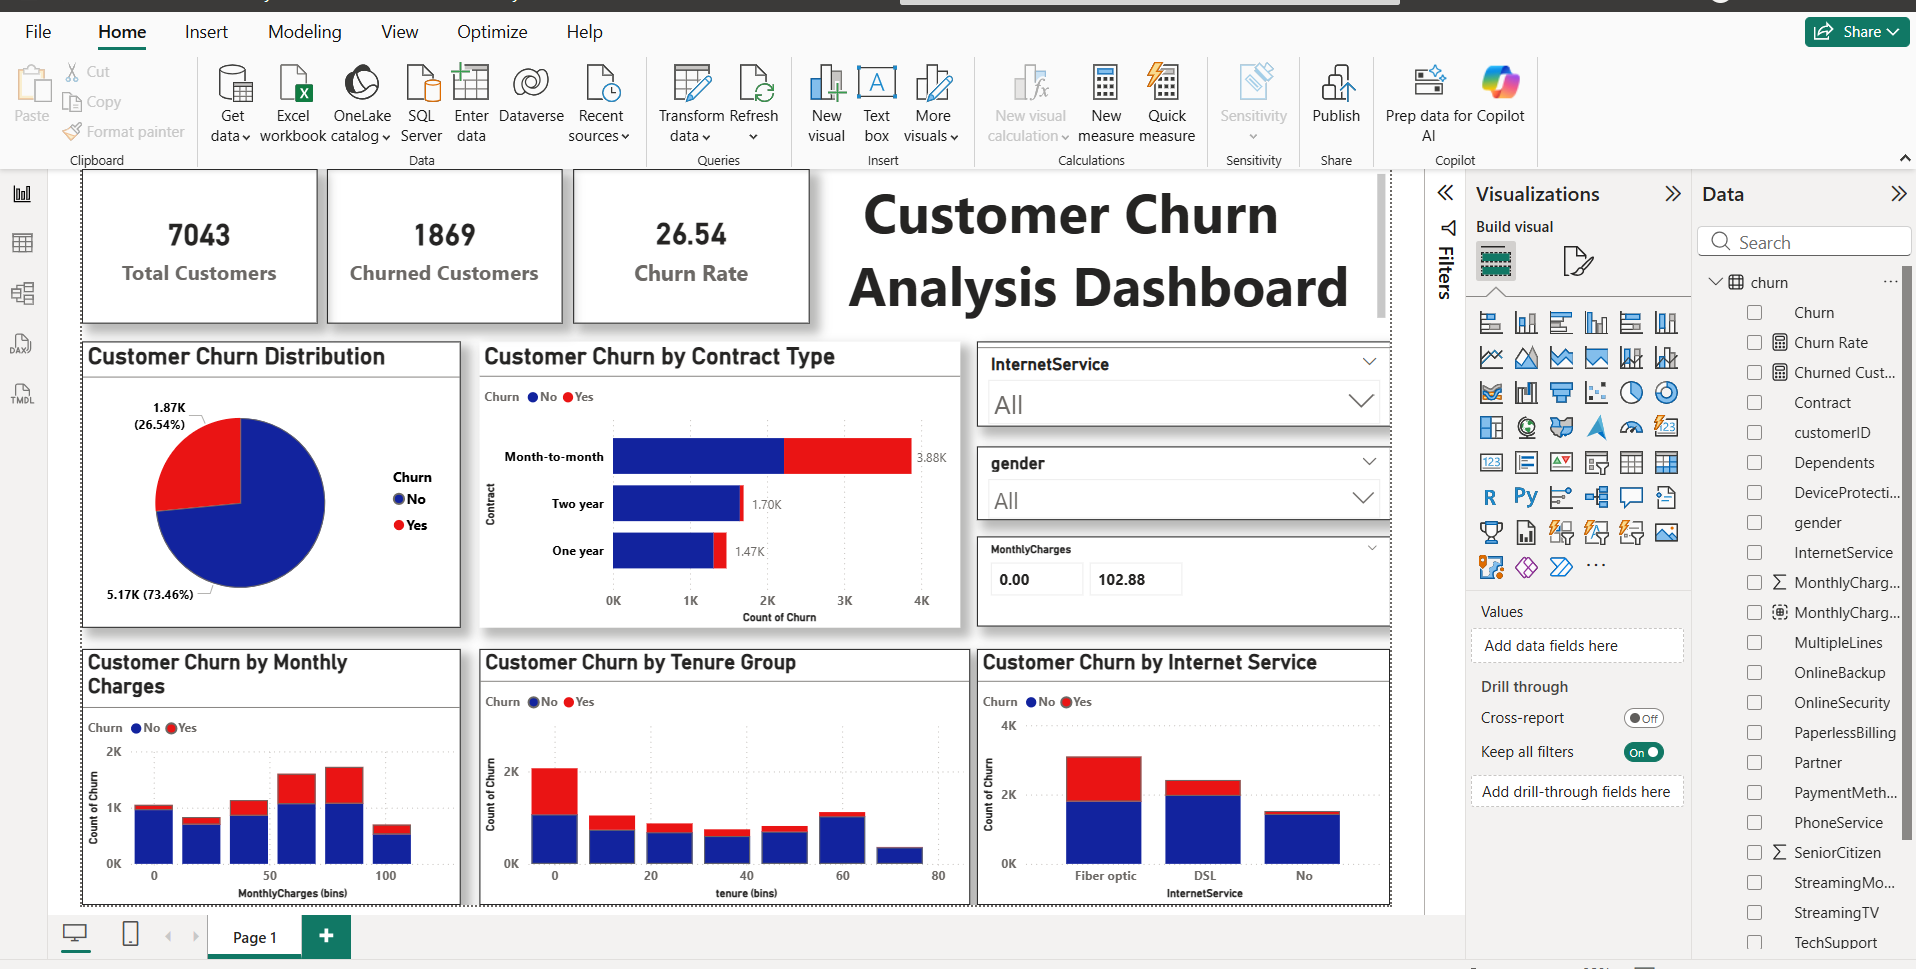

What the dashboard file says about the page in this screenshot:
{"tool":"powerbi","page":{"name":"Page 1","canvas":[1280,720],"ordinal":0},"visuals":[{"type":"card","fields":{"Values":["churn.Churn Rate"]},"box":[480,0,231.4,151.4],"z":0},{"type":"pieChart","title":"Customer Churn Distribution","fields":{"Y":["CountNonNull(churn.Churn)"],"Category":["churn.Churn"]},"box":[0,168.8,370.5,279.9],"z":1000},{"type":"barChart","title":"Customer Churn by Contract Type","fields":{"Category":["churn.Contract"],"Y":["CountNonNull(churn.Churn)"],"Series":["churn.Churn"]},"box":[388.6,168.6,470,280],"z":2000},{"type":"columnChart","title":"Customer Churn by Tenure Group","fields":{"Y":["CountNonNull(churn.Churn)"],"Series":["churn.Churn"],"Category":["churn.tenure (bins)"]},"box":[388.6,470,480,250],"z":3000},{"type":"columnChart","title":"Customer Churn by Monthly Charges","fields":{"Y":["CountNonNull(churn.Churn)"],"Series":["churn.Churn"],"Category":["churn.MonthlyCharges (bins)"]},"box":[0,470,370,250],"z":4000},{"type":"columnChart","title":"Customer Churn by Internet Service","fields":{"Y":["CountNonNull(churn.Churn)"],"Series":["churn.Churn"],"Category":["churn.InternetService"]},"box":[875.7,470,404.3,250],"z":5000},{"type":"card","fields":{"Values":["churn.Total Churn"]},"box":[240,0,230,151.4],"z":6000},{"type":"card","fields":{"Values":["churn.Total Customers"]},"box":[0,0,230,151.4],"z":7000},{"type":"slicer","fields":{"Values":["churn.InternetService"]},"box":[875,168.3,405,83.3],"z":8000},{"type":"slicer","fields":{"Values":["churn.gender"]},"box":[875,271.7,405,71.7],"z":9000},{"type":"slicer","fields":{"Values":["churn.MonthlyCharges (bins)"]},"box":[875,360,405,88.3],"z":10000},{"type":"textbox","box":[745,0,535,151.7],"z":11000}]}

Visuals, with their boxes on the page's 1280x720 design canvas (x1, y1, x2, y2). These are canvas units, not pixel positions in the 1916x969 screenshot, which may show the page scaled, cropped or inside an application window:
card - churn.Churn Rate: crop(480, 0, 711, 151)
"Customer Churn Distribution" pieChart: crop(0, 169, 370, 449)
"Customer Churn by Contract Type" barChart: crop(389, 169, 859, 449)
"Customer Churn by Tenure Group" columnChart: crop(389, 470, 869, 720)
"Customer Churn by Monthly Charges" columnChart: crop(0, 470, 370, 720)
"Customer Churn by Internet Service" columnChart: crop(876, 470, 1280, 720)
card - churn.Total Churn: crop(240, 0, 470, 151)
card - churn.Total Customers: crop(0, 0, 230, 151)
slicer - churn.InternetService: crop(875, 168, 1280, 252)
slicer - churn.gender: crop(875, 272, 1280, 343)
slicer - churn.MonthlyCharges (bins): crop(875, 360, 1280, 448)
textbox: crop(745, 0, 1280, 152)
